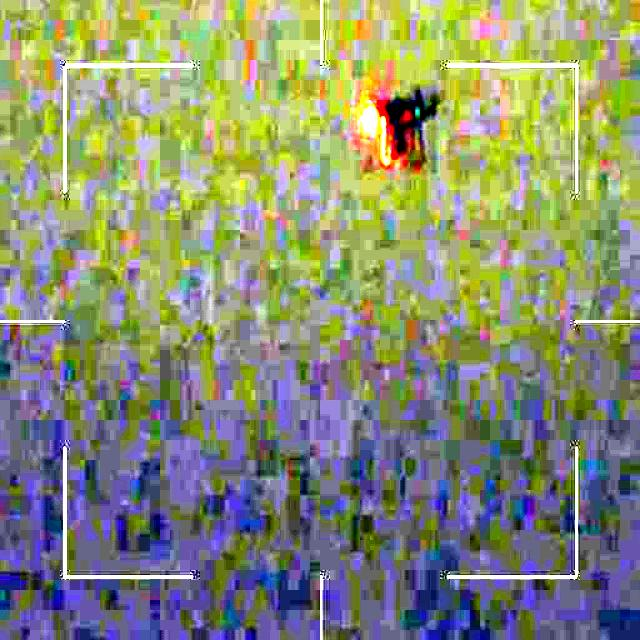bird: (350, 85, 448, 175)
